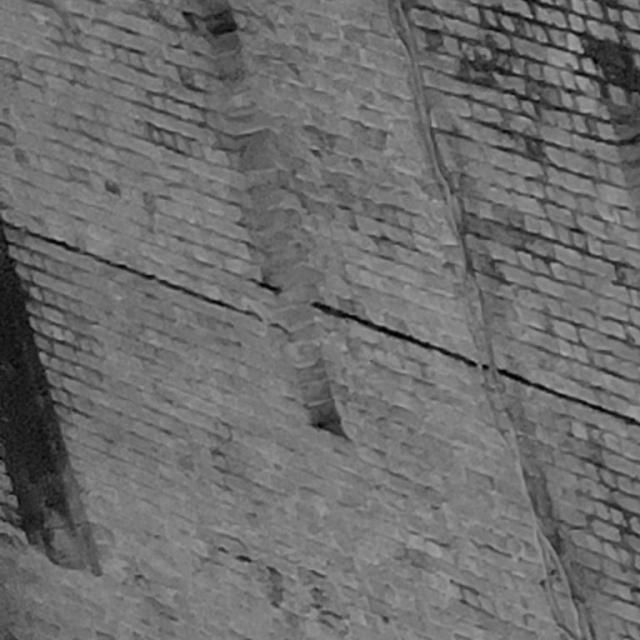crack: (309, 300, 640, 427), (1, 218, 288, 331), (249, 276, 281, 292)
